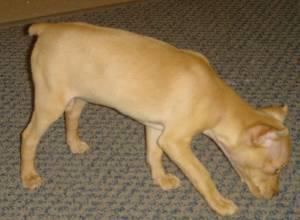dog-miniature_pinscher: (229, 102, 288, 196)
